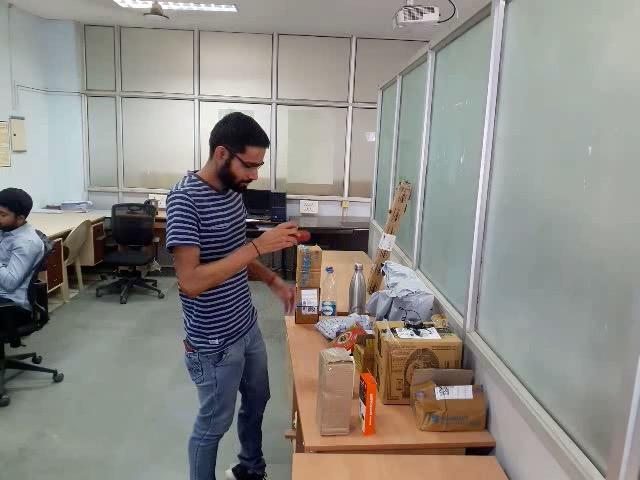Normal: (114, 32, 640, 480)
